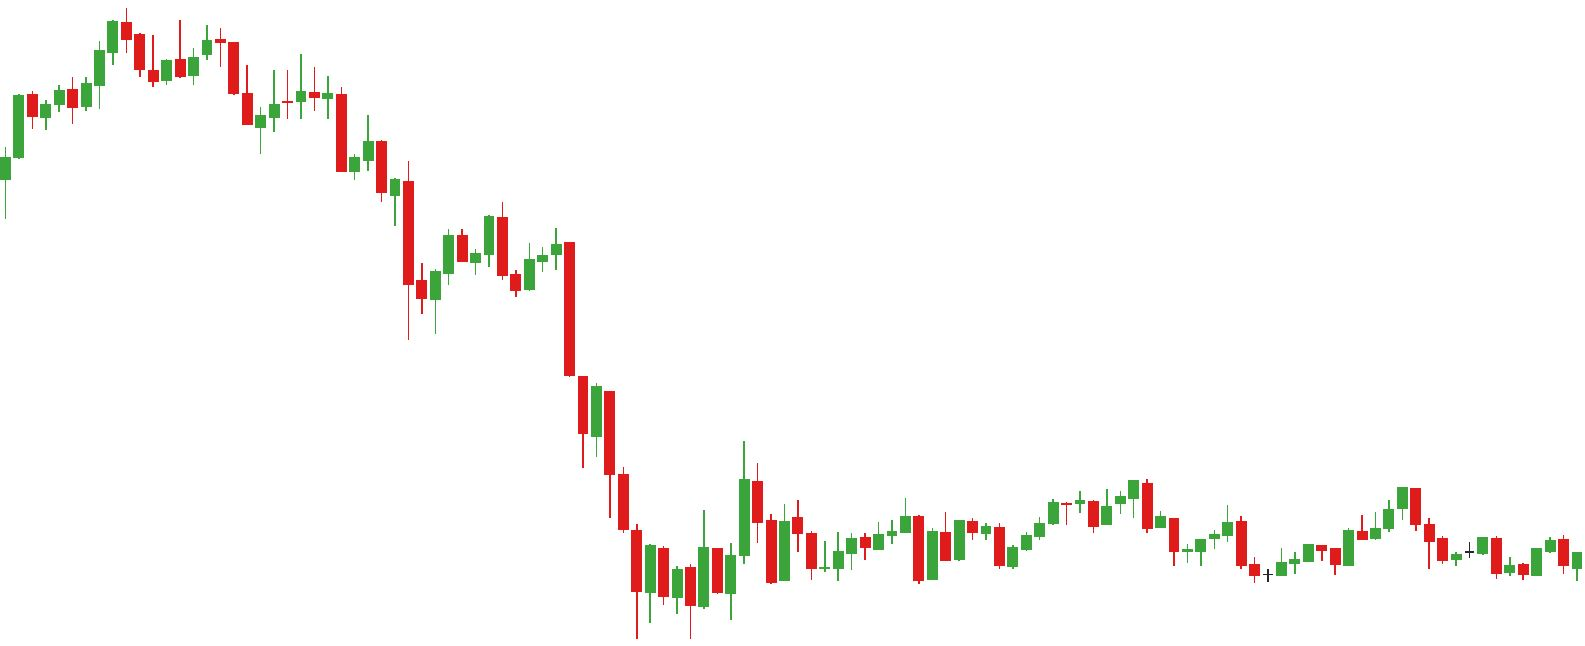sell: (241, 55, 323, 117)
